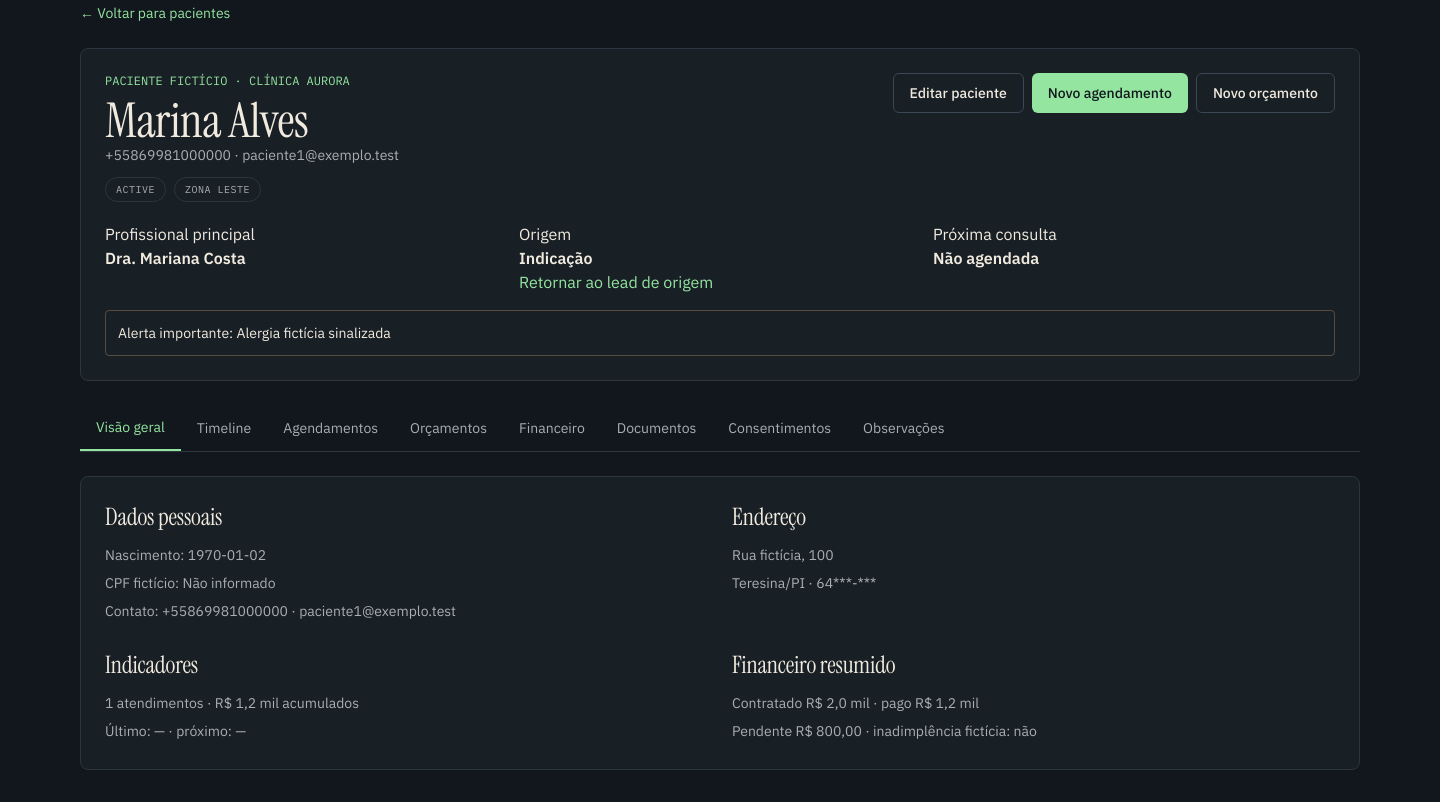
Test: Pacientes demonstrativos › registra nota e navega para agenda
Click the tab "Observações" at (904, 428), box left=847, top=405, right=960, bottom=451
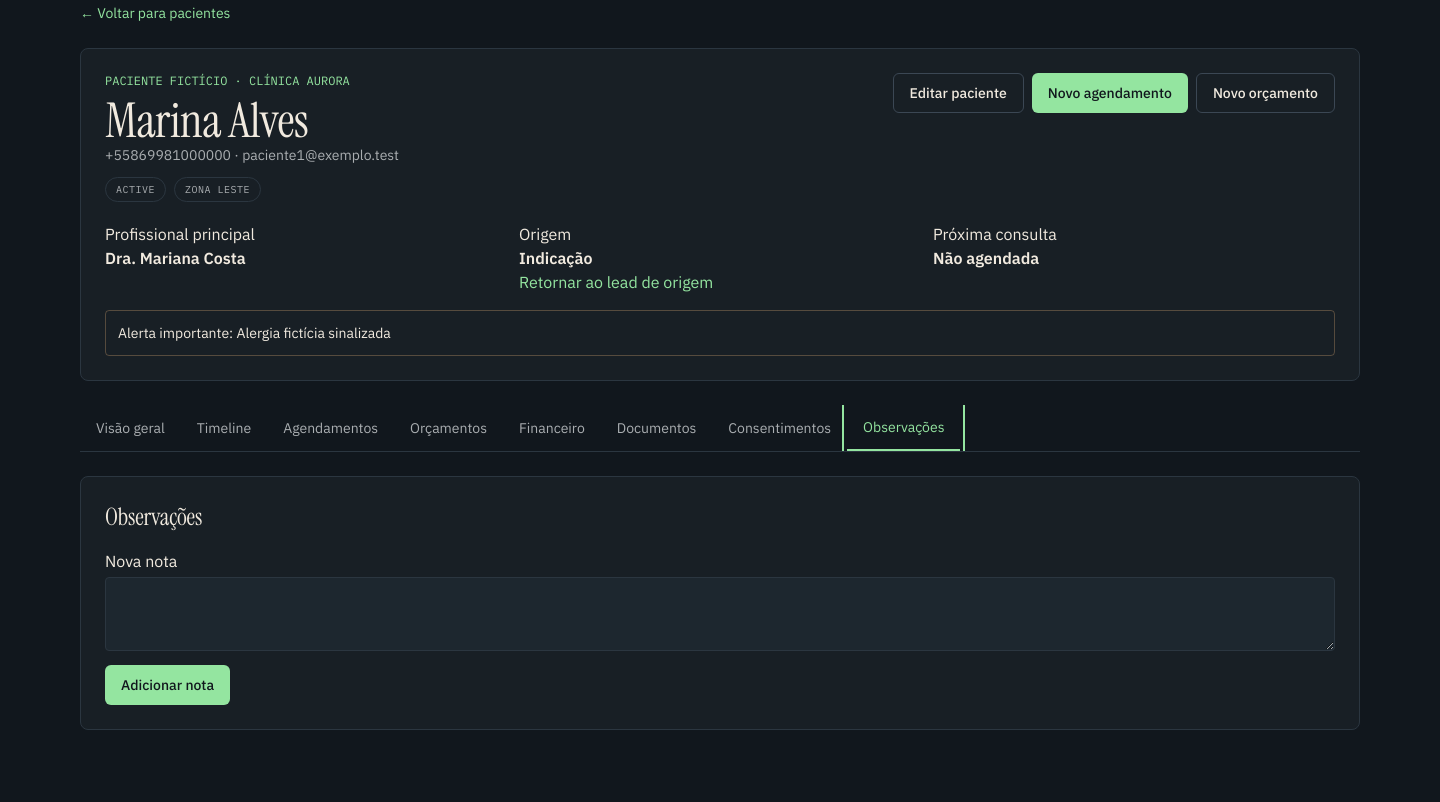
Type "Nota administrativa fictícia" into the text box labelled "Nova nota" at (720, 614), box left=105, top=577, right=1335, bottom=651
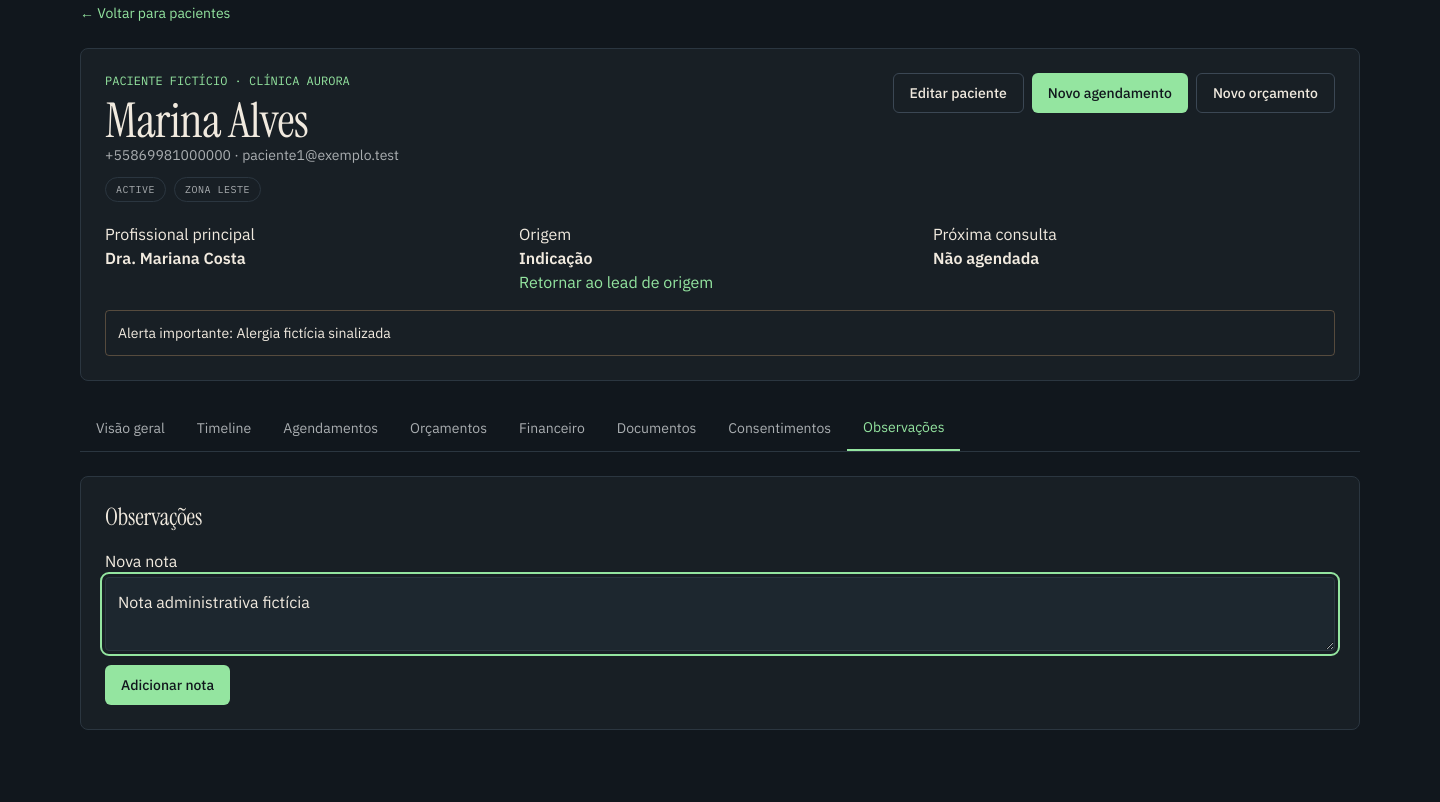
Click the button "Adicionar nota" at (168, 685), box left=105, top=665, right=230, bottom=705
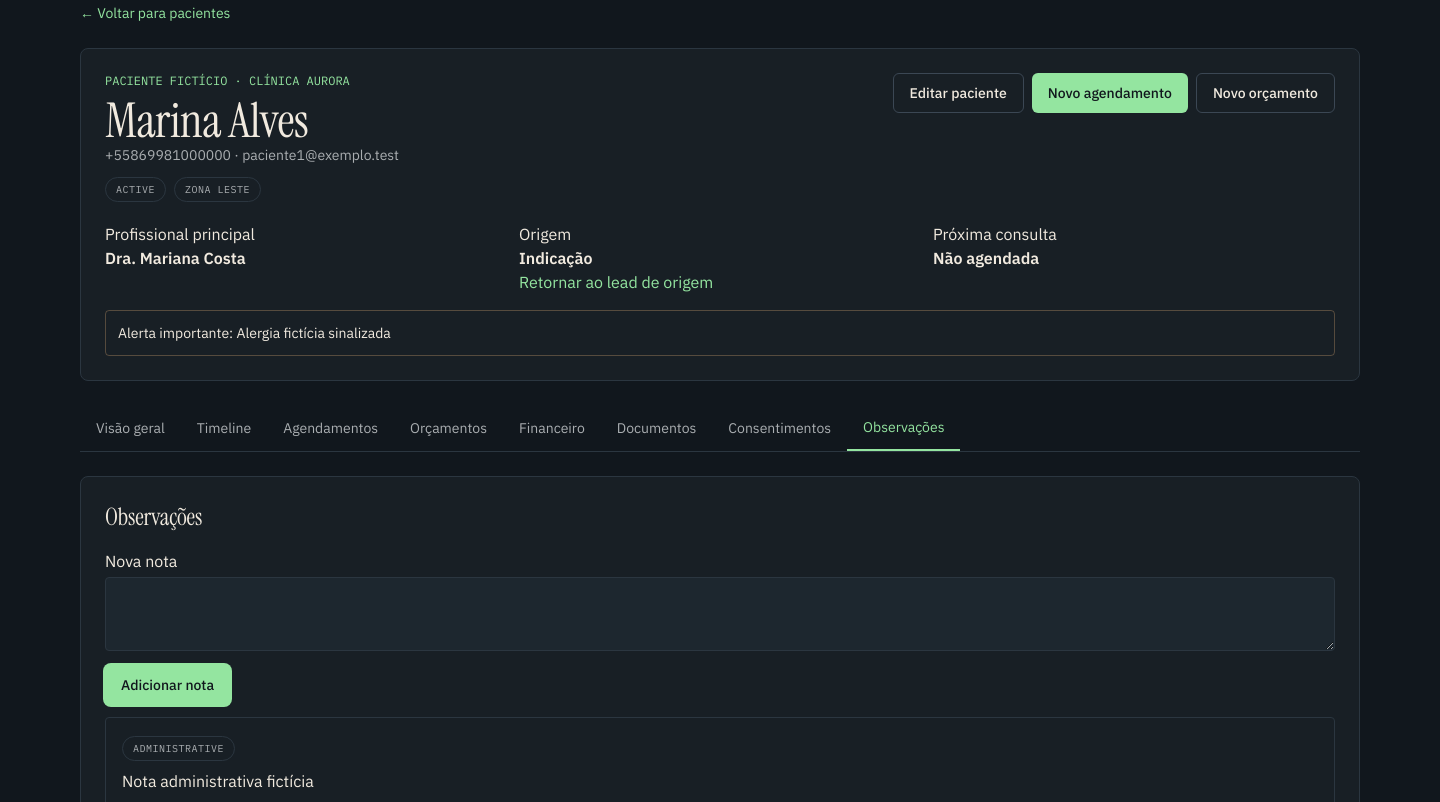
Result: the text "Nota administrativa fictícia" is shown at left=122, top=771, right=314, bottom=791
